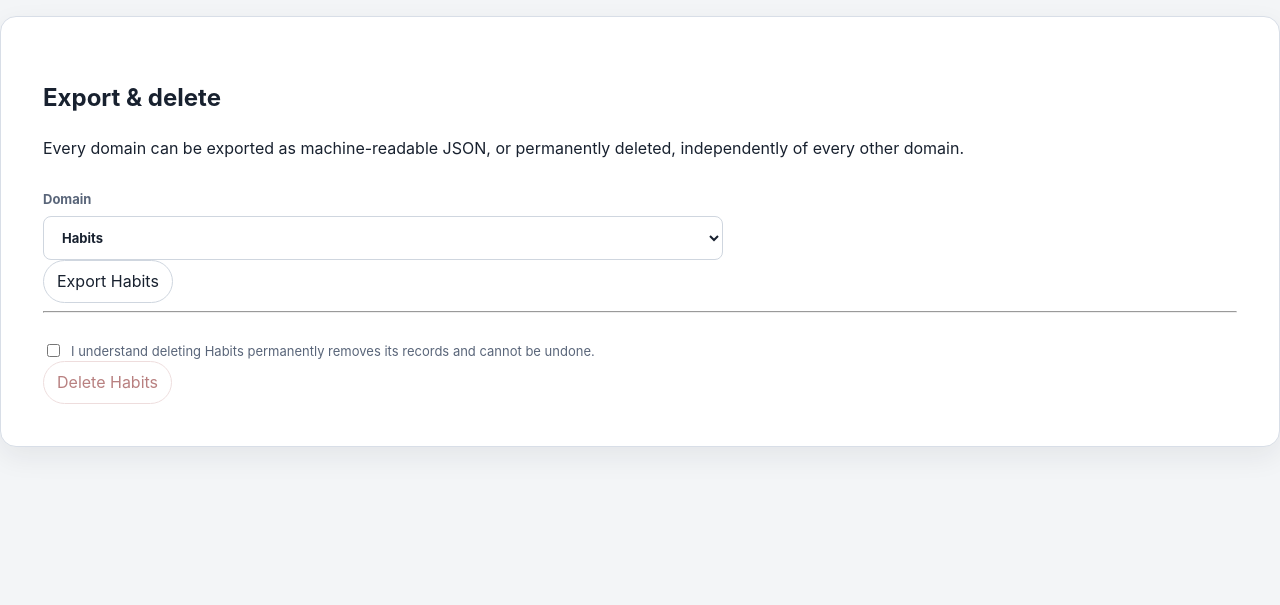
Test: ExportDeletePanel › resets the confirmation and any previous result when switching domains
Click the checkbox at (54, 351), box [47,344,60,357]
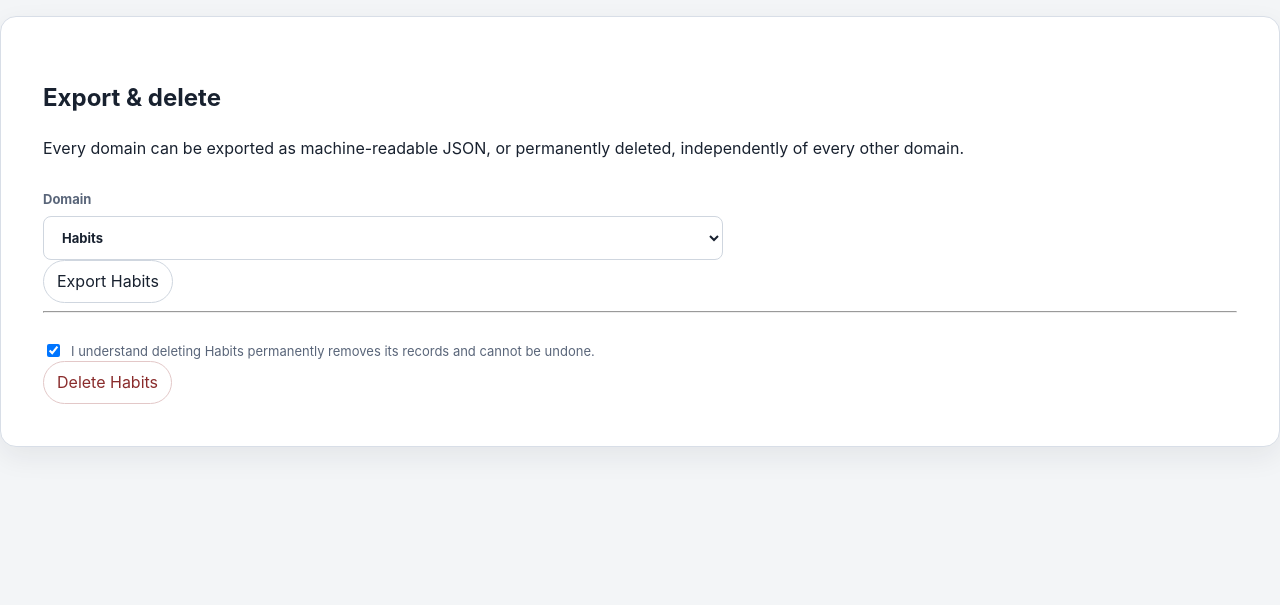
Click the button "Export Habits" at (108, 281), box [43,260,173,303]
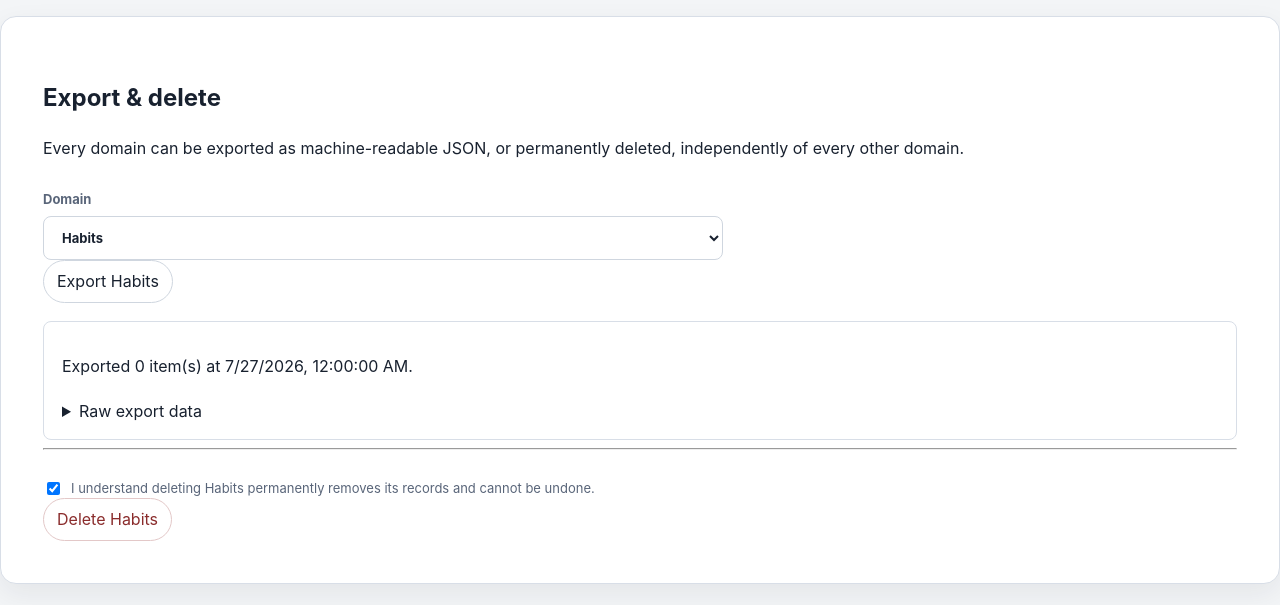
Now the text "Exported 0 item(s) at 7/27/2026, 12:00:00 AM." is shown, box [62,356,413,376]
Select "Learning" in the dropdown named "Export domain" at (383, 238), box [43,216,723,260]
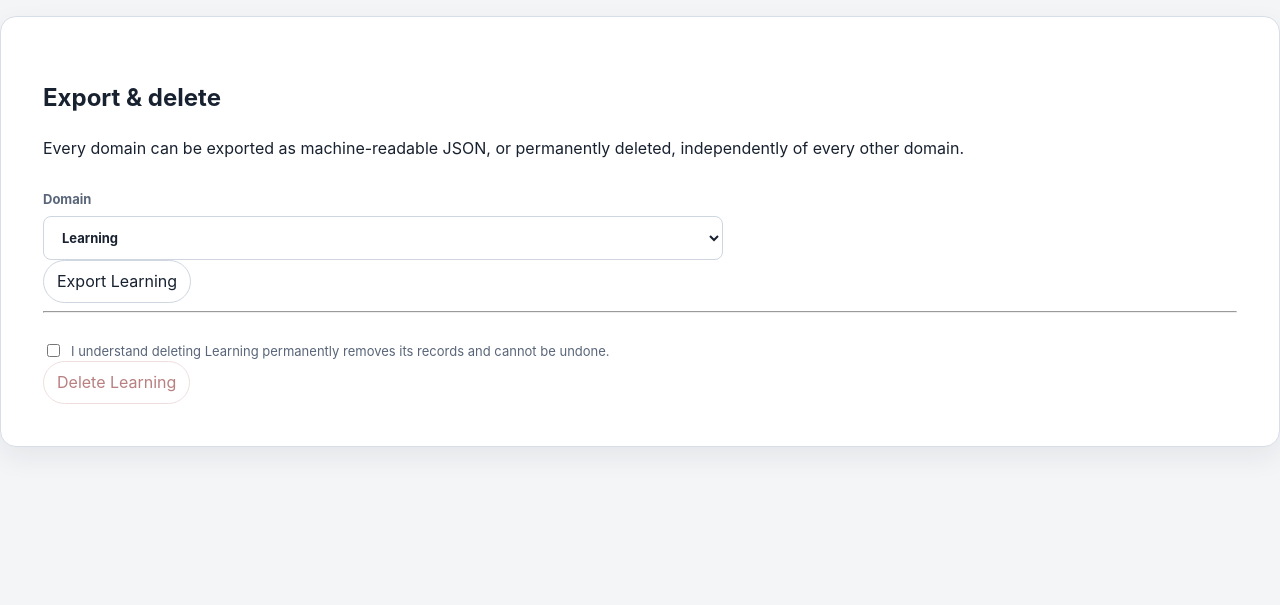
Now the checkbox is not checked, box [47,344,60,357]
Now the text "Exported 0 item(s)" is gone
